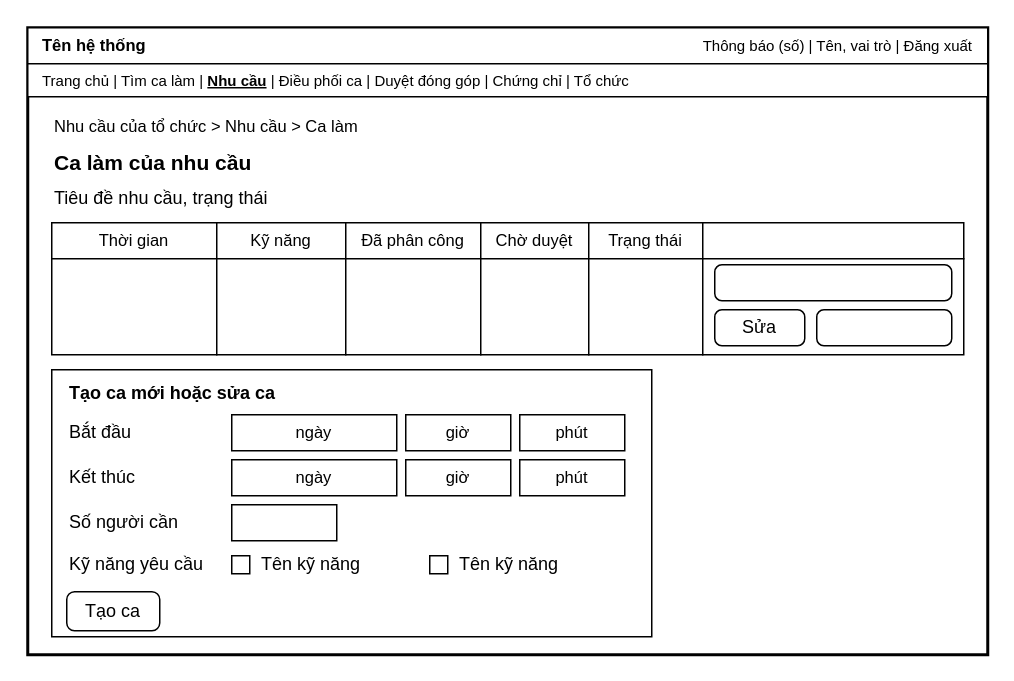
Image size: 1014x681. Some labels were removed from this diagram. The box of each missing label's shape, as (x1, y1, x2, y2) in pixels:
Hủy ca: (815, 308, 952, 346)
Thao tác: (701, 221, 964, 259)
Xét duyệt đăng ký: (713, 263, 952, 301)
